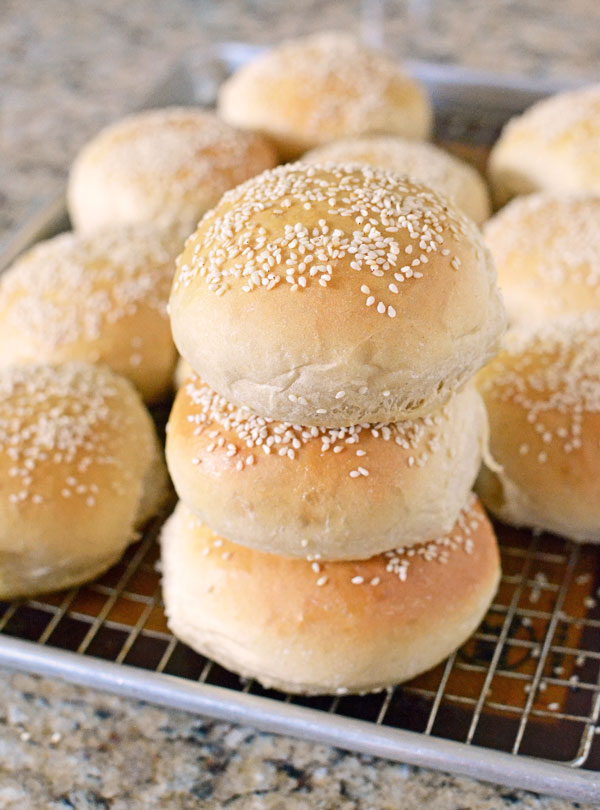hamburger_buns: (96, 503, 560, 744), (171, 152, 506, 425), (127, 357, 510, 552), (1, 330, 153, 572)
